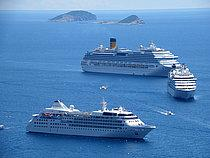Ship: (24, 96, 160, 145), (80, 36, 183, 79), (165, 63, 200, 103)
